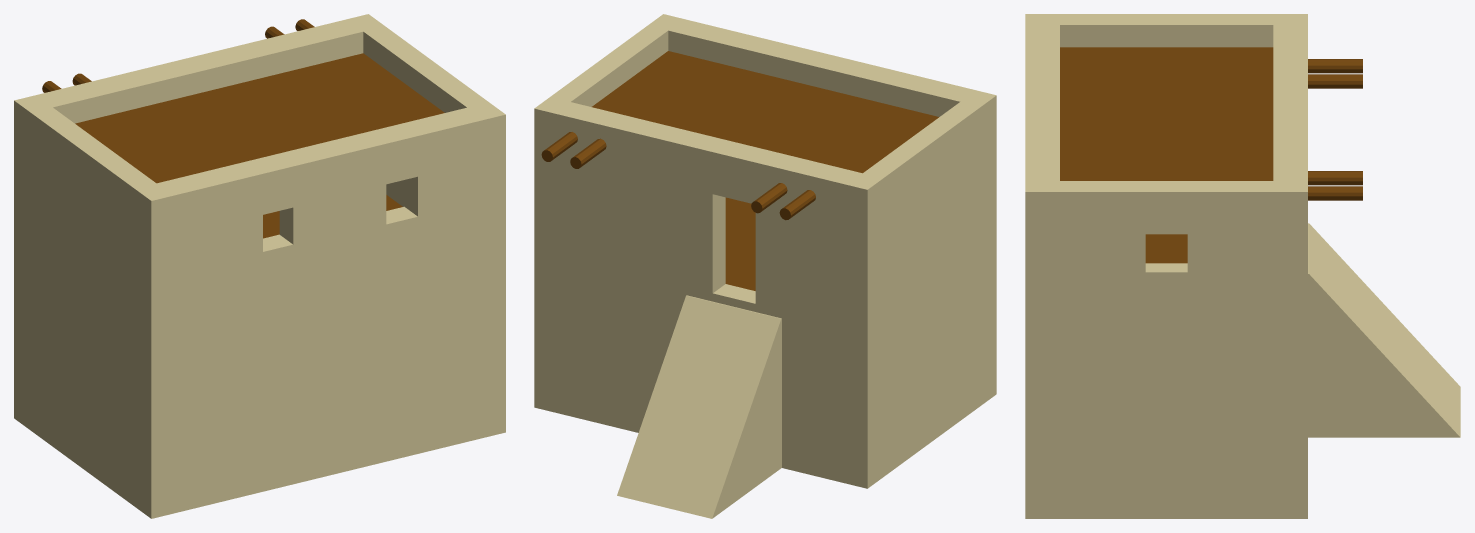
Rendered from shoe_box1.glb.
The picture shows the model from 3 angles, left to right: view 1: azimuth 30°, elevation 25°; view 2: azimuth 150°, elevation 25°; view 3: azimuth 270°, elevation 25°; orthographic projection. The views are drawn at different scales.
Visible parts, largest first — view 1: shoe_box; view 2: shoe_box; view 3: shoe_box.
Part boxes in pixels (box(x1,y1,x2,y2)): shoe_box: box(14, 14, 505, 518); shoe_box: box(534, 14, 996, 518); shoe_box: box(1025, 14, 1460, 518).
Size of the model in its own units: 7 by 6 by 7.24.
